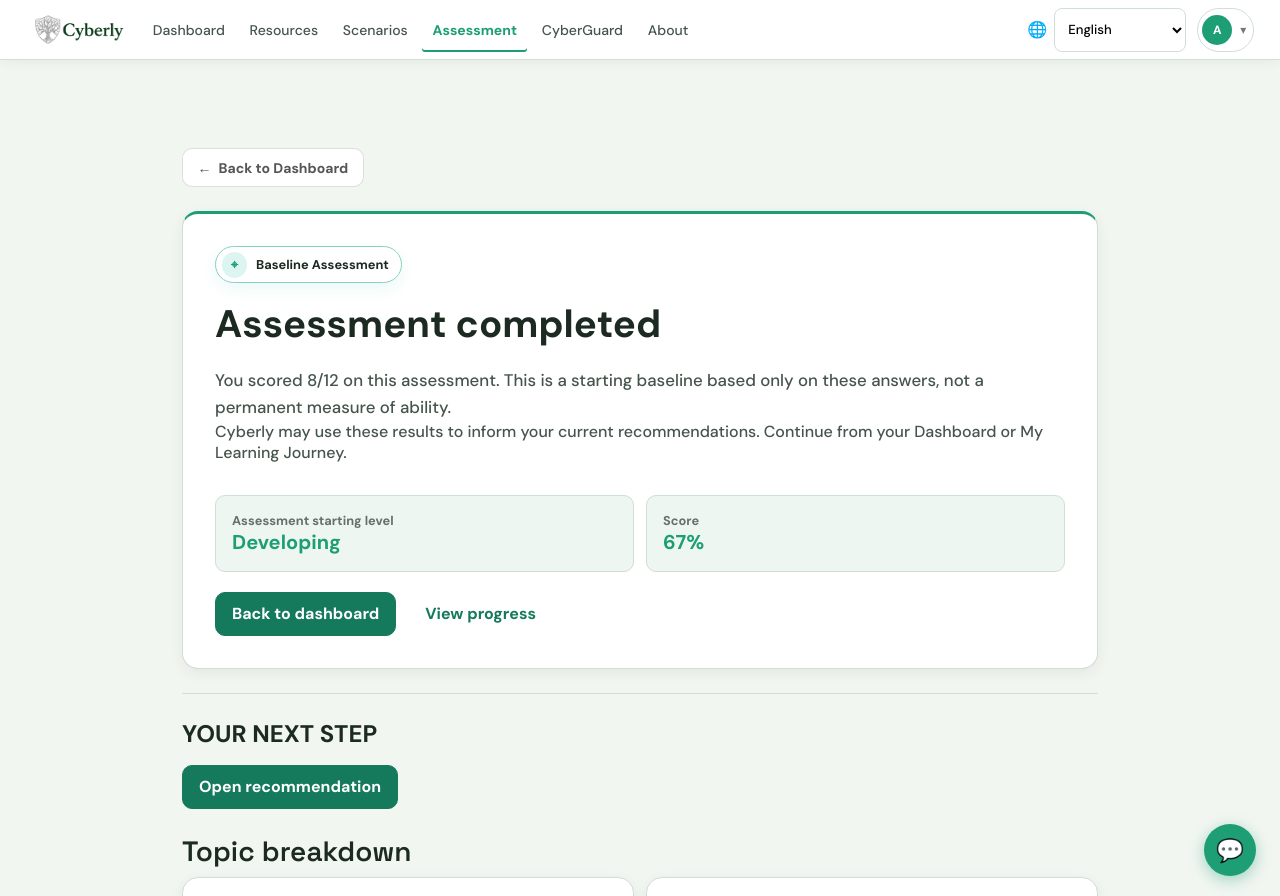
Assessment final visual migration › UG01-S4 explicit viewed success waits and never completes
Expected: the text "Assessment starting level" is shown, [232, 512, 394, 529]
Click the button "Open recommendation": click(290, 787) [182, 765, 398, 809]
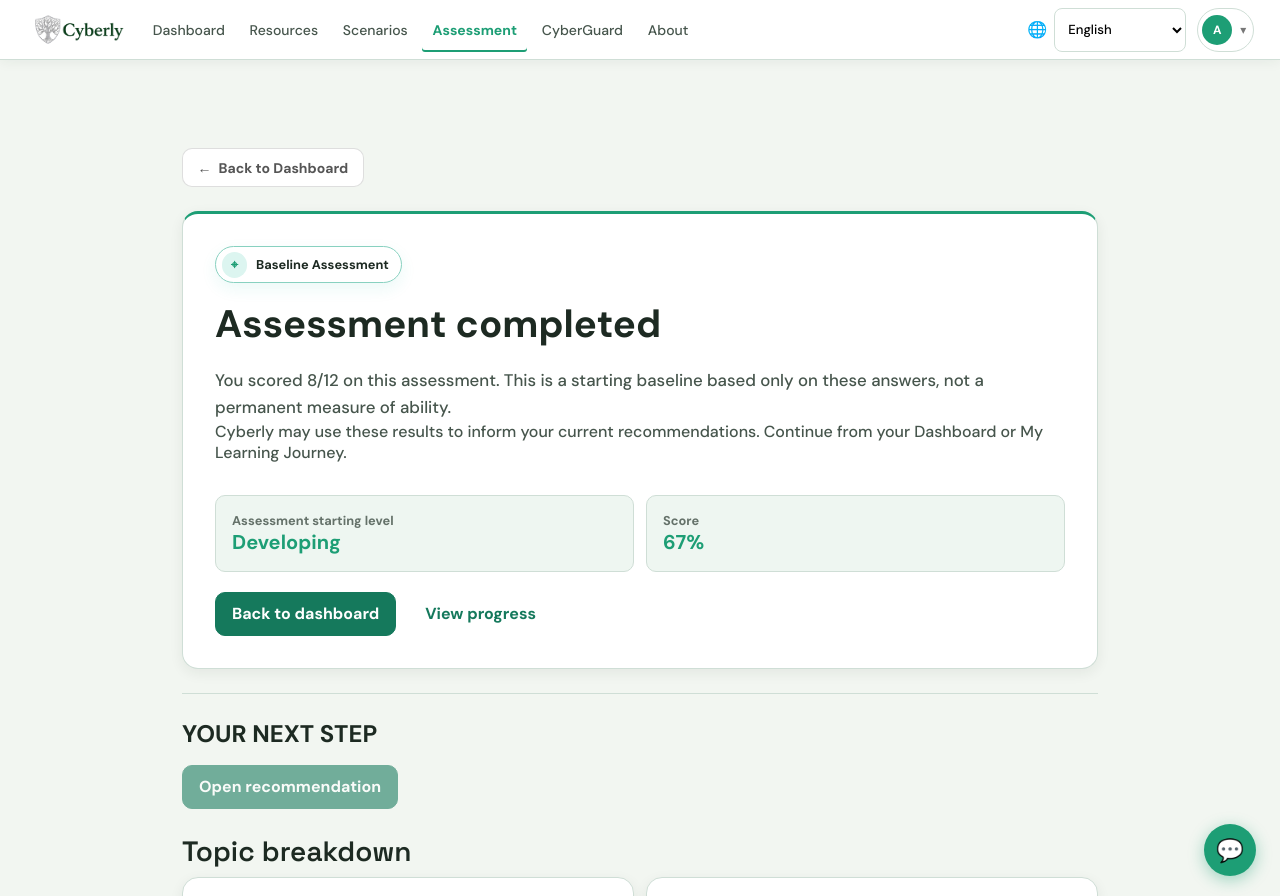
Click the button "Open recommendation": click(290, 787) [182, 765, 398, 809]
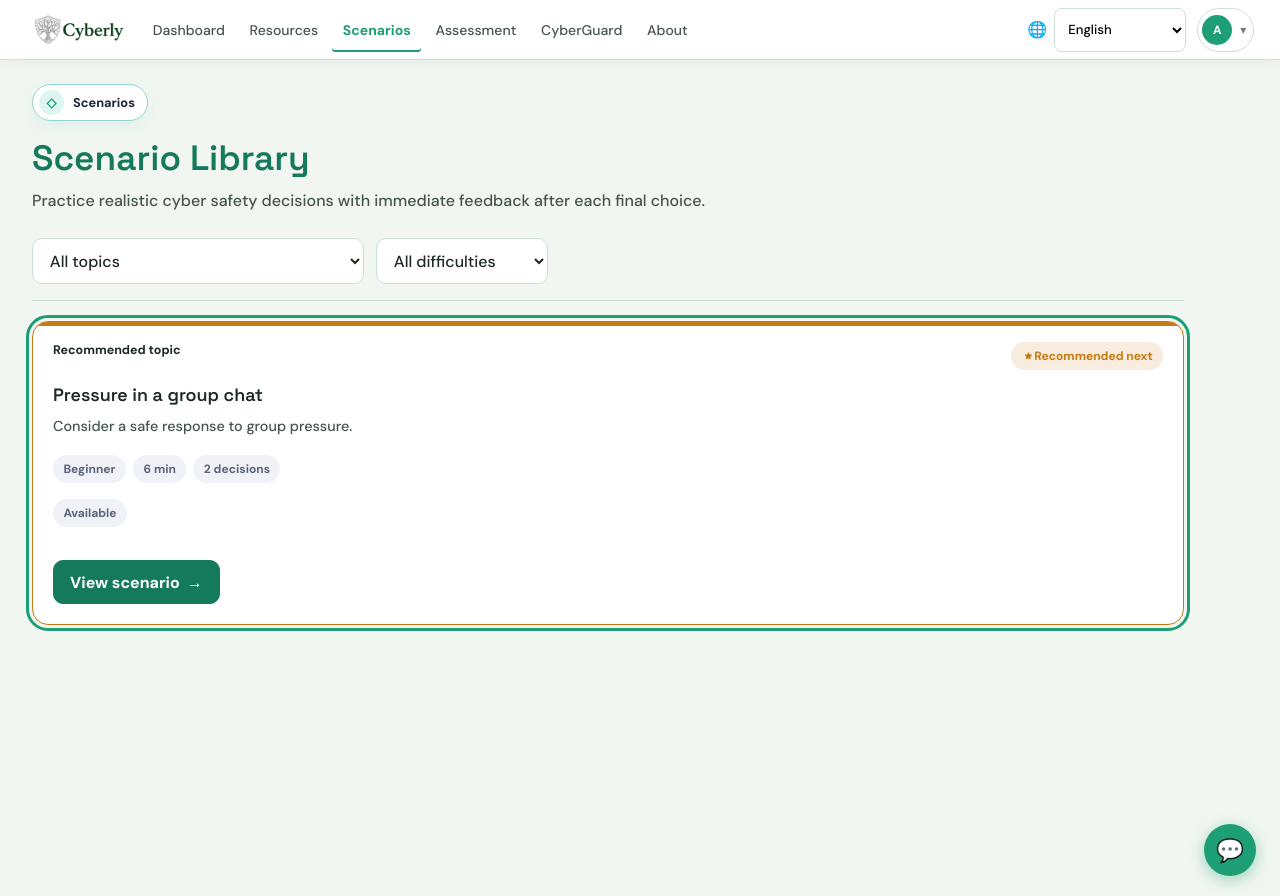
Expected: the text "Recommended next" is shown, [1034, 349, 1153, 363]
Expected: the element "Pressure in a group chat" is shown, [32, 321, 1184, 625]
